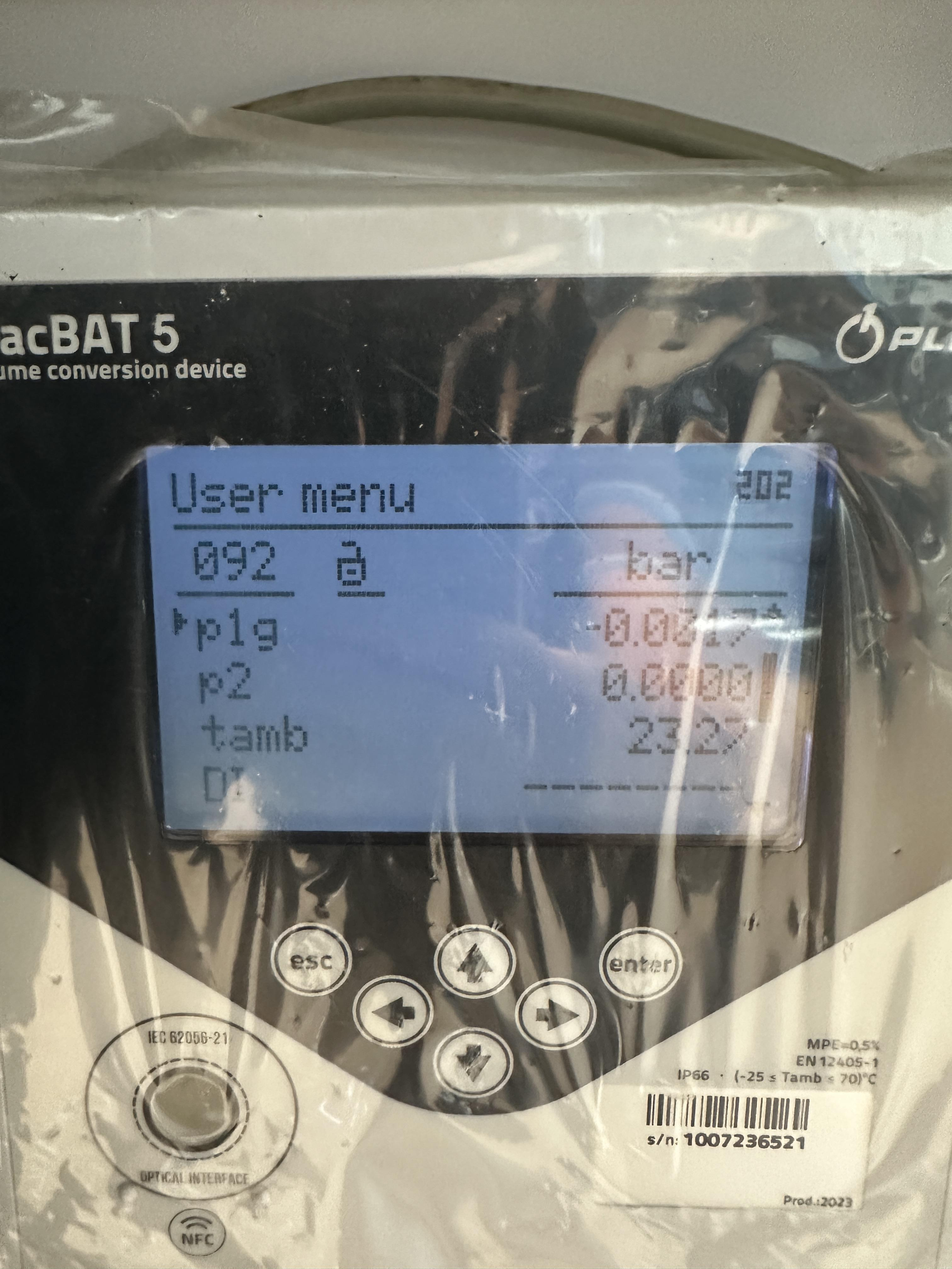digital_screen: (145, 443, 822, 839)
